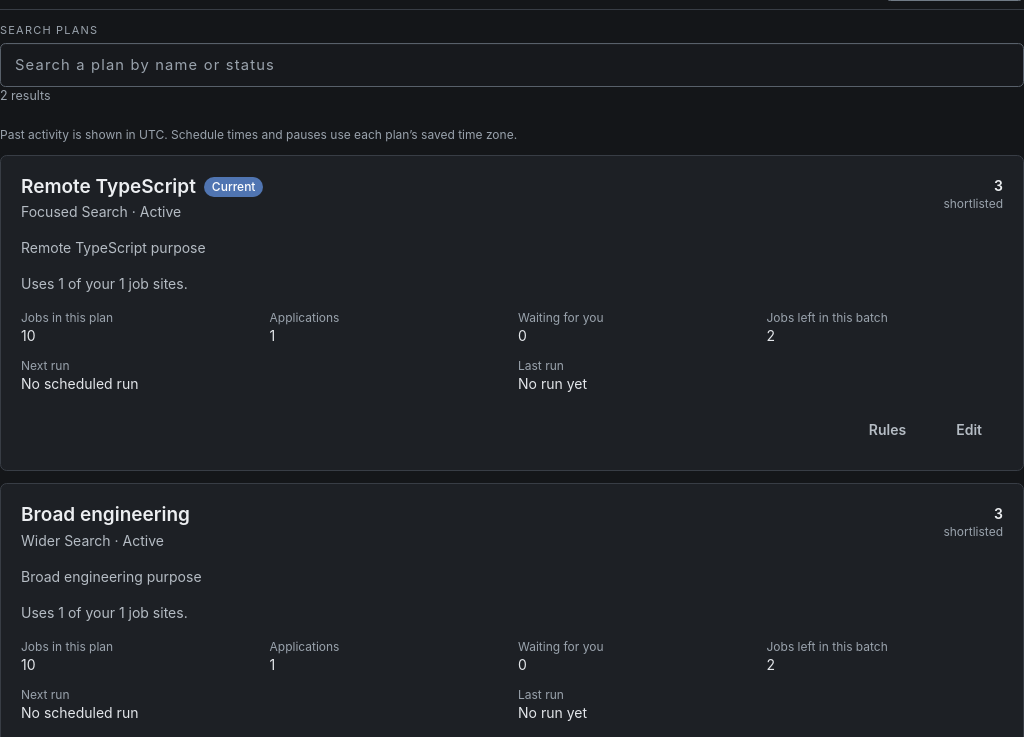
Test case: CampaignsScreen › binds the editor to the selected plan when switching between plans
Step 1. Click the button "Edit" → click(969, 430), box [935,410,1003,450]
(page scrolled)
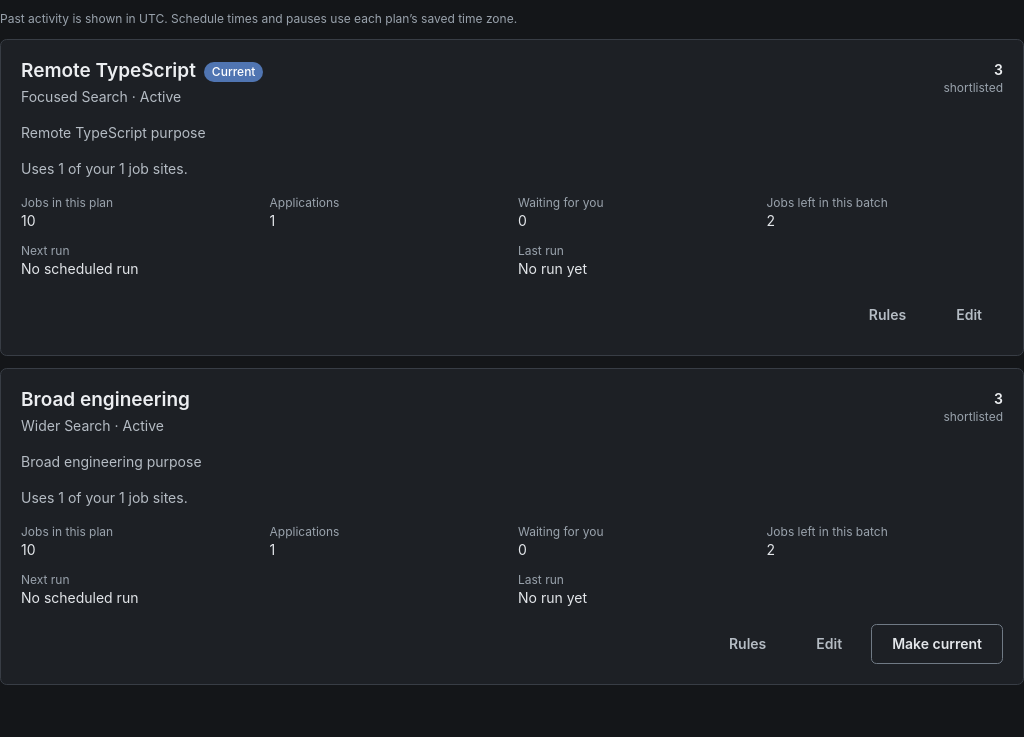
Step 2. Click the 2nd button "Edit" → click(829, 644), box [795,624,863,664]
(page scrolled)
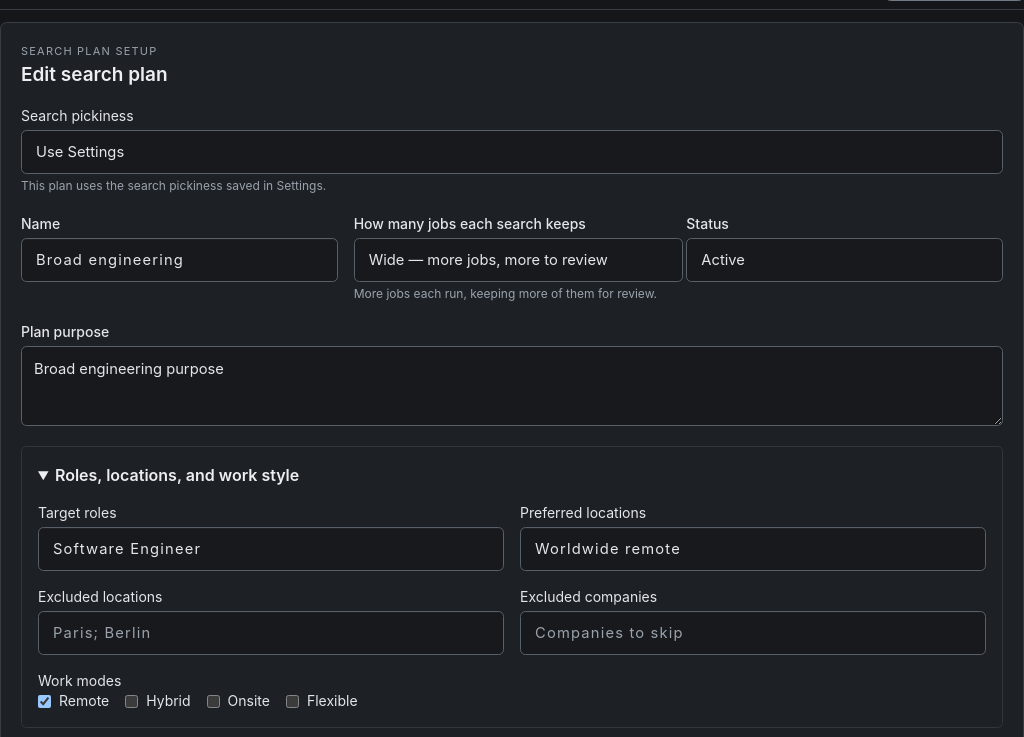
Result: the field labelled "Name" holds "Broad engineering" at [21,238,338,282]
